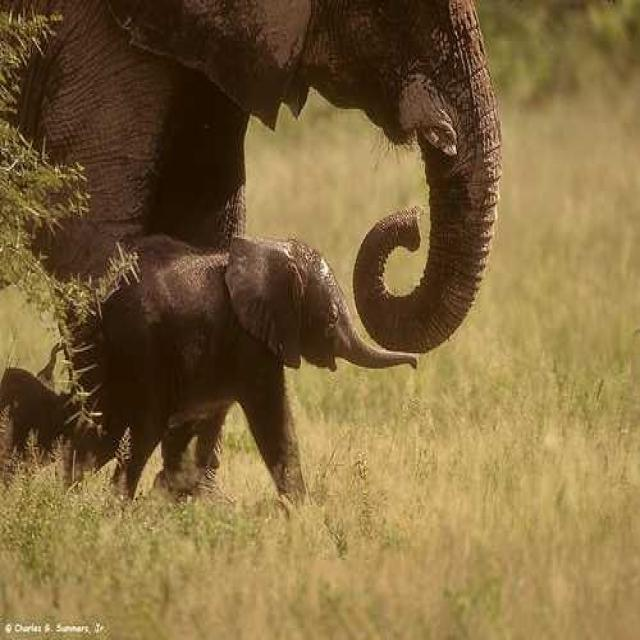Elephant: (0, 0, 502, 507), (64, 230, 419, 516)
